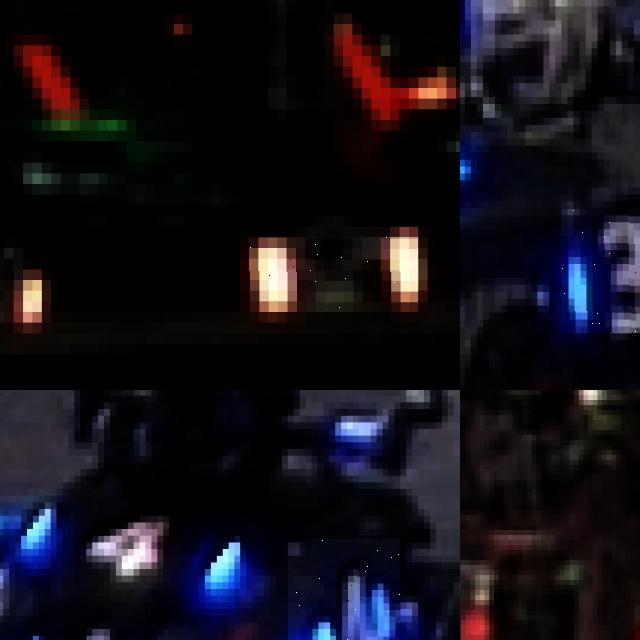B3: (561, 208, 640, 333)
B4: (3, 472, 252, 592), (287, 539, 400, 640), (12, 608, 154, 640)
Rs: (240, 237, 418, 312)
